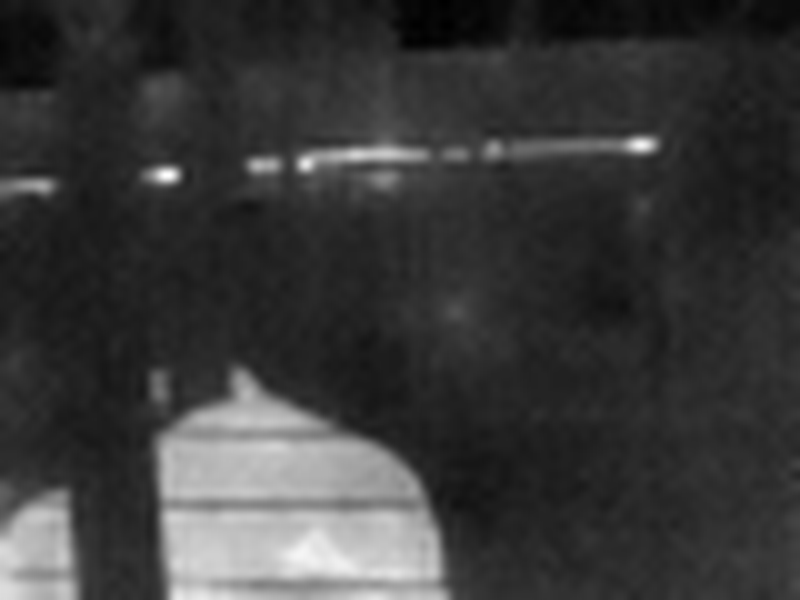elephant: (4, 363, 451, 600)
